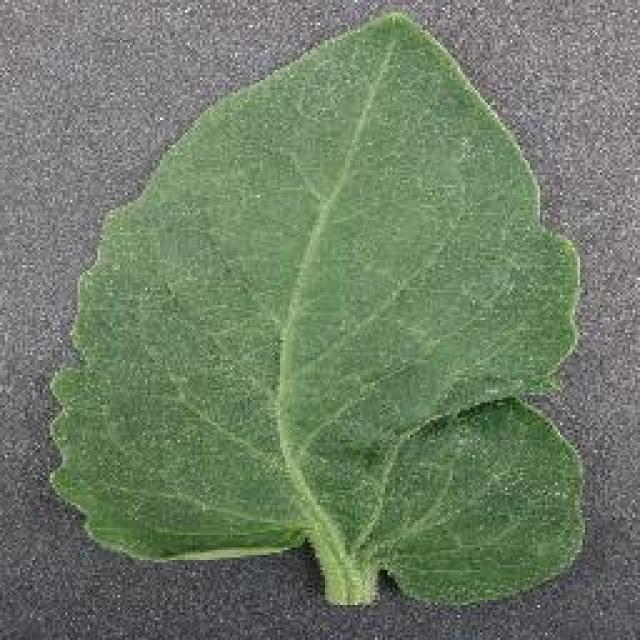Tomato healthy leaf: (52, 15, 592, 610)
